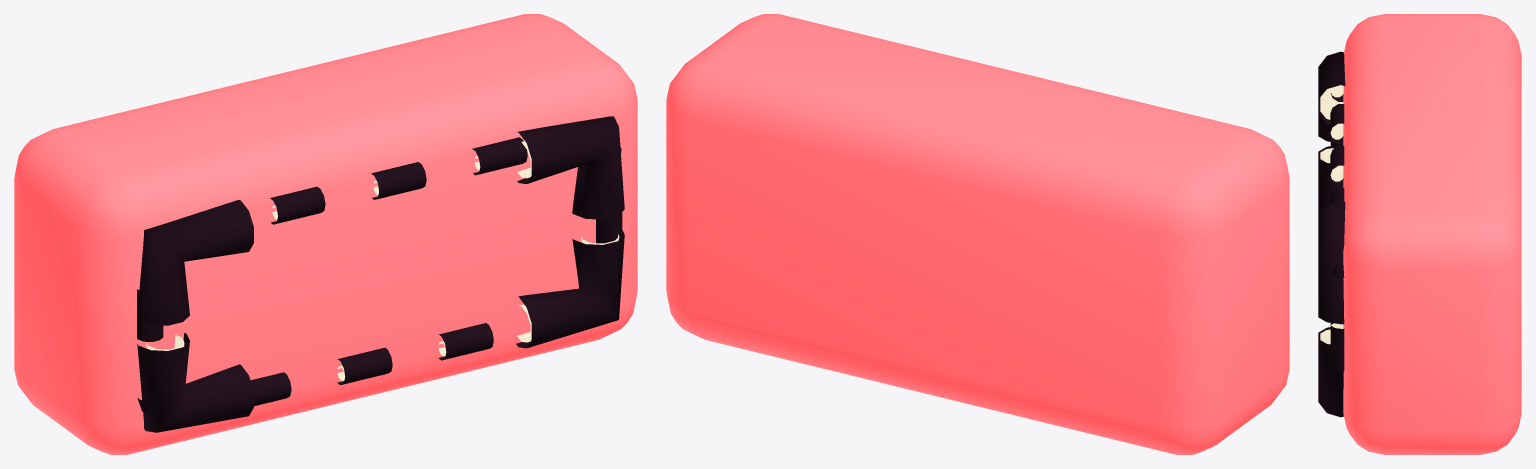
Rendered from brick_ghost_a.glb.
3 views of the same model, side by side, from view 1: azimuth 30°, elevation 25°; view 2: azimuth 150°, elevation 25°; view 3: azimuth 270°, elevation 25° (orthographic). The views are drawn at different scales.
Parts seen in each view (by area): view 1: type_ghost_a; view 2: type_ghost_a; view 3: type_ghost_a.
Part boxes in pixels (<box>): type_ghost_a: <box>14,14,637,454</box>; type_ghost_a: <box>666,14,1289,454</box>; type_ghost_a: <box>1318,14,1521,454</box>.
Size of the model in its own units: 0.92 by 0.44 by 0.342.
